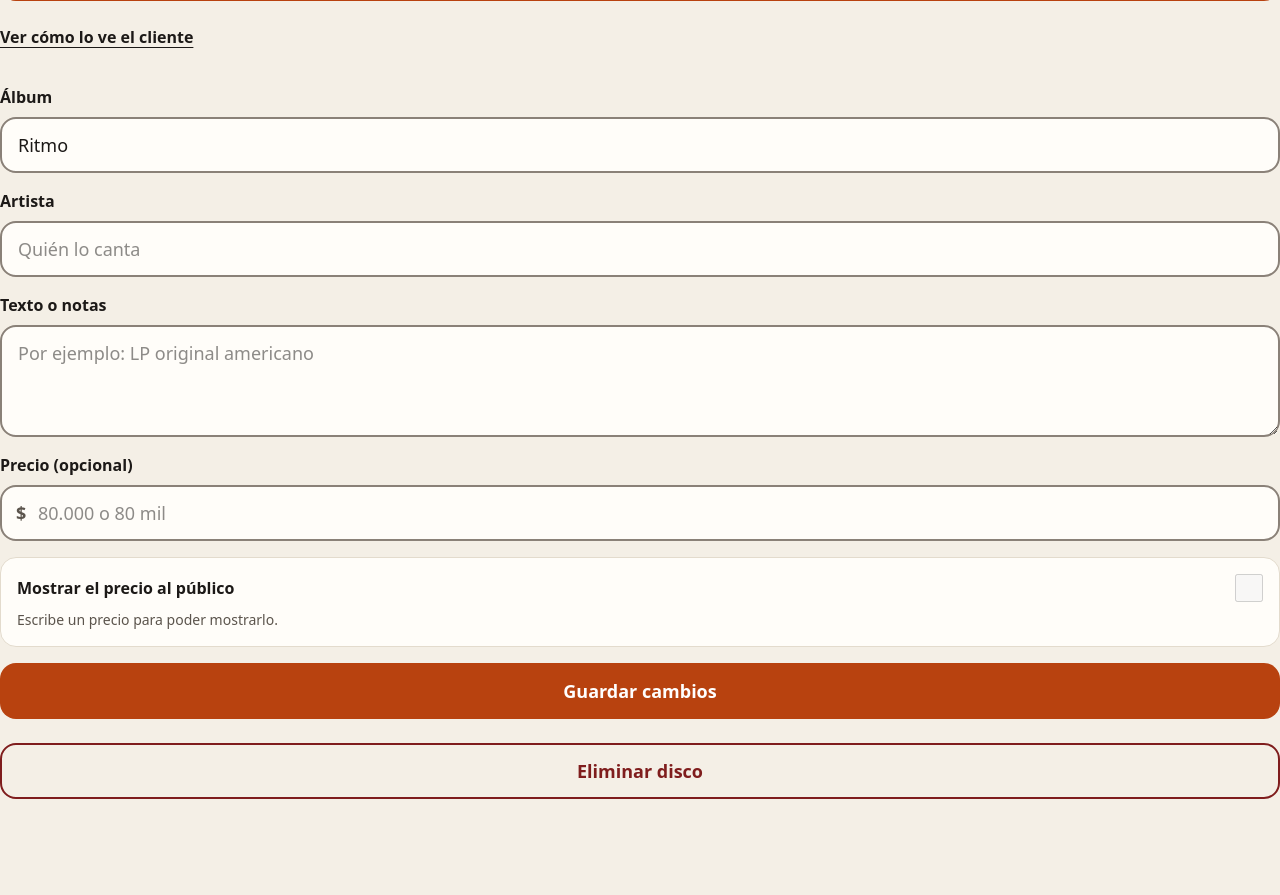
Test case: RecordDetail › deleting the record › keeps the record when the owner changes his mind
(page scrolled)
Click the button "Eliminar disco". click: (640, 771)
box: [0,743,1279,799]
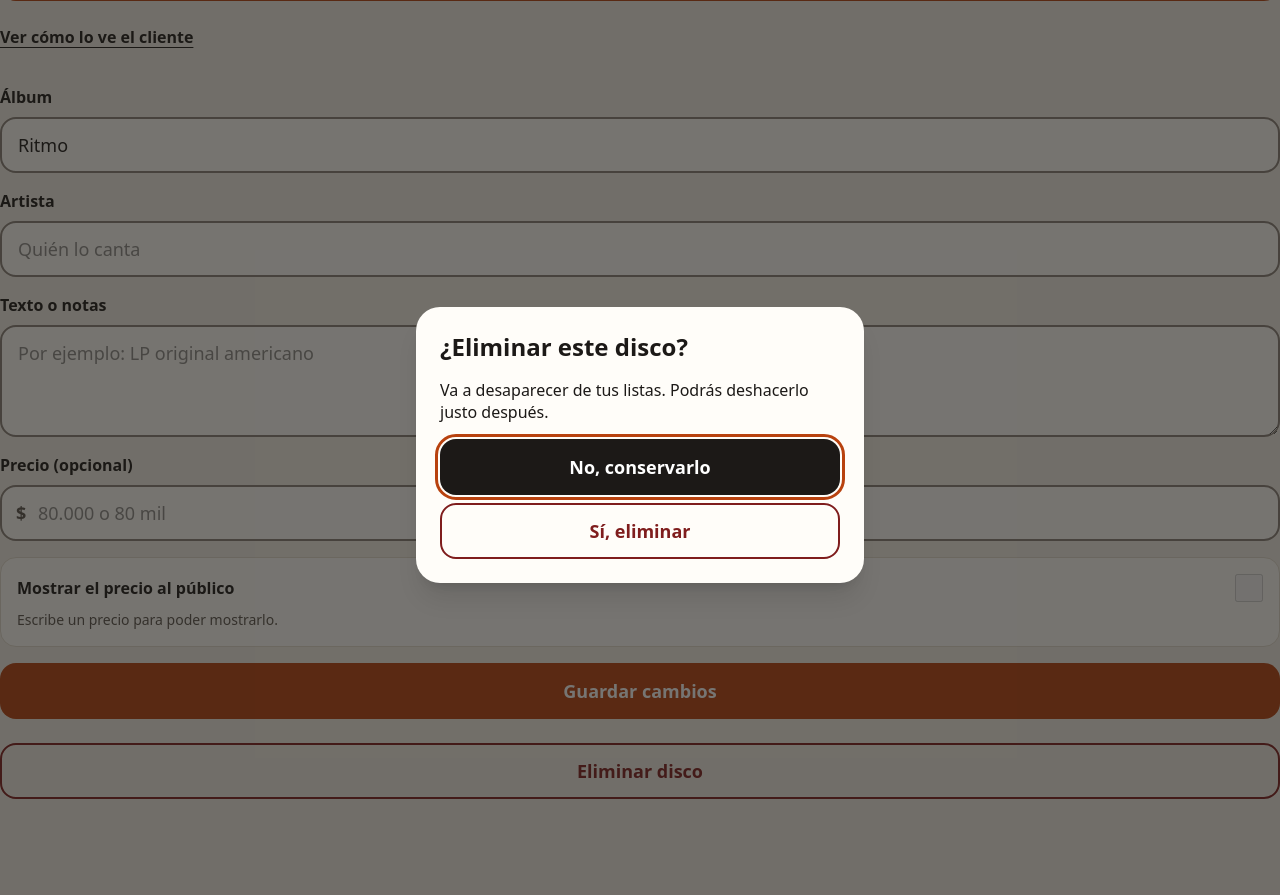
Click the button "No, conservarlo". click: (640, 467)
box: [440,439,840,495]
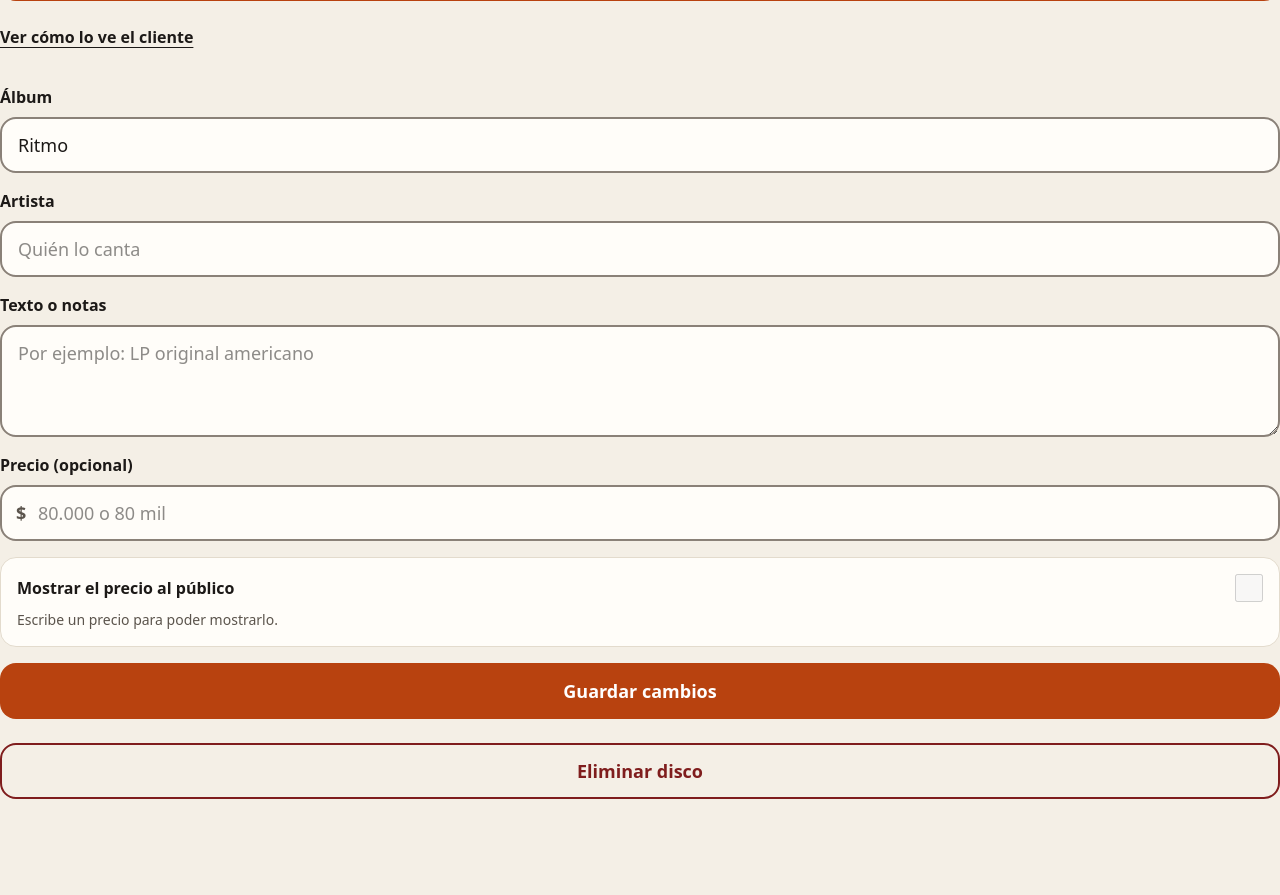
Now the dialog is gone
